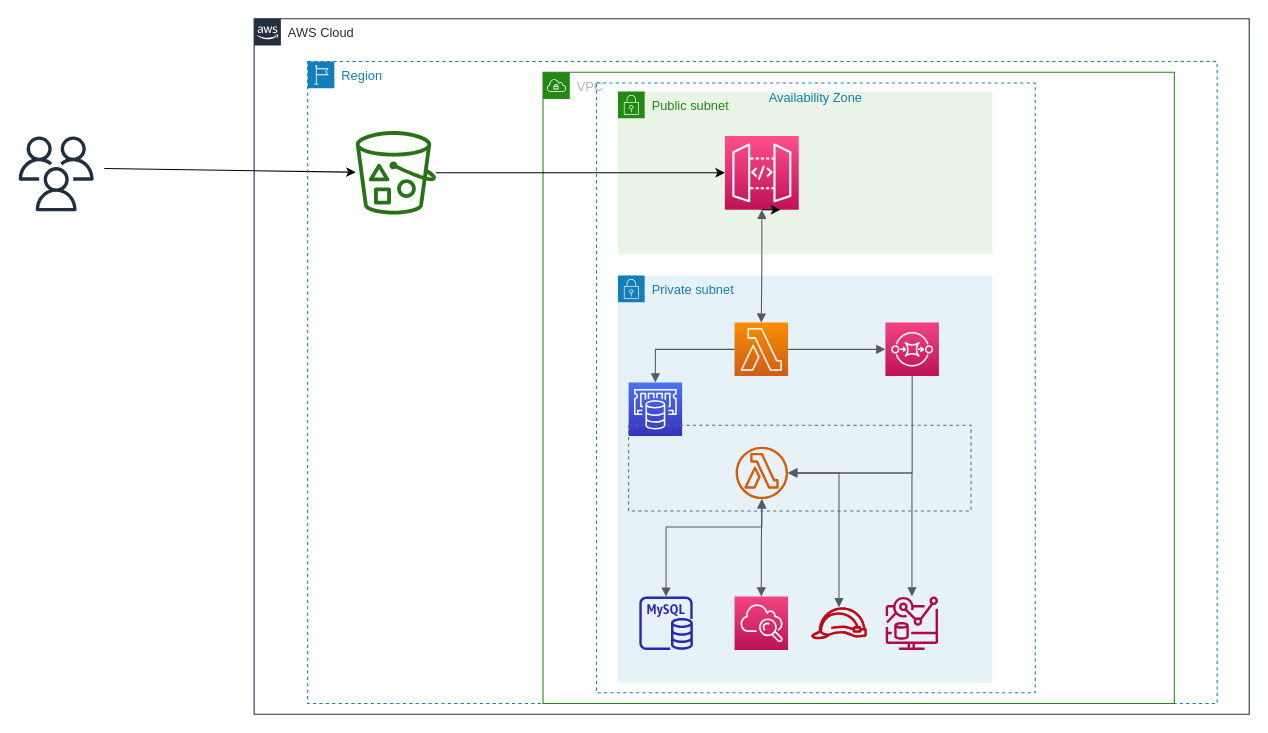
The diagram is 1268 pixels wide and 733 high, and some of its shapes have lost their labels. The shapes that lost their labels are listed below. From the top down, each one's centre as x and y in pixels, then its label:
the point at 395,172: Bucket
the point at 911,349: Amazon Simple Queue Service
